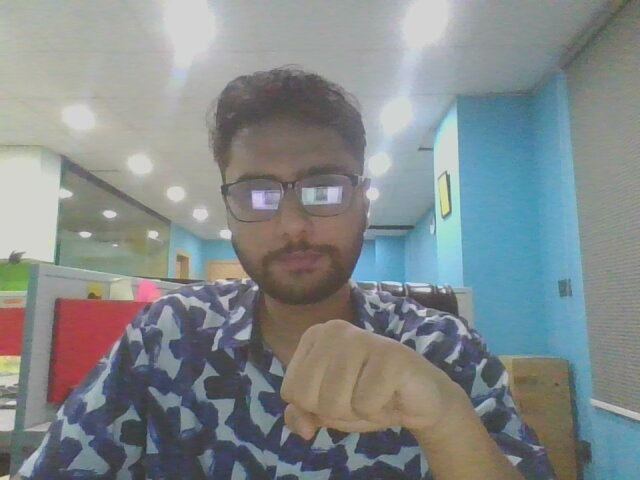yes: (276, 308, 477, 463)
